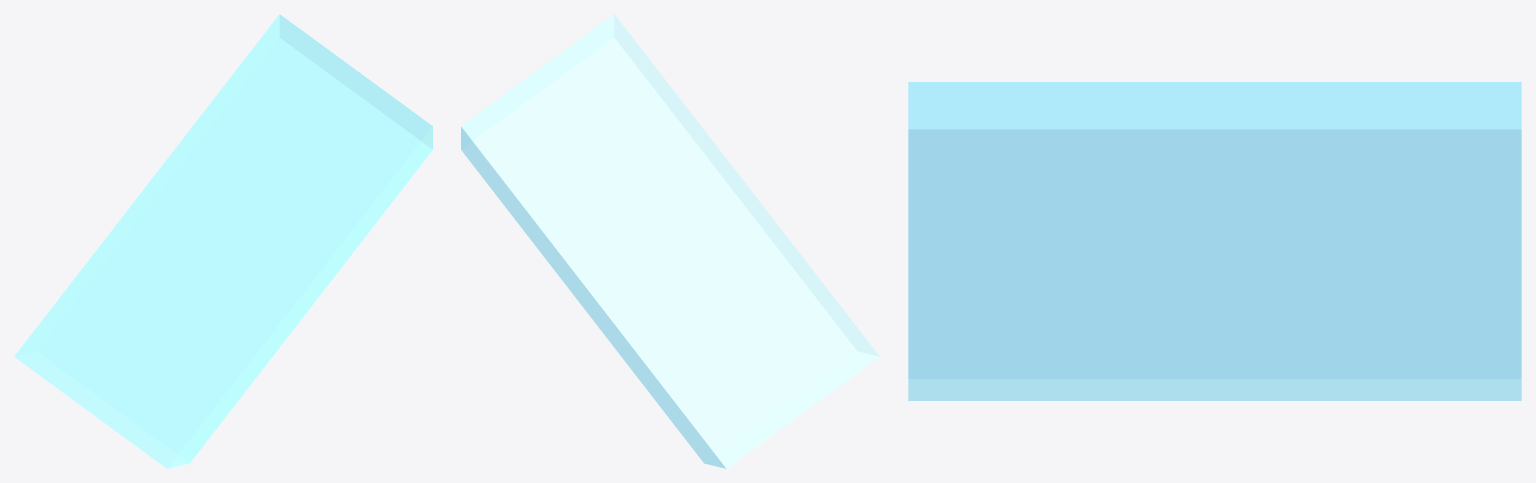
3 renders of one model, left to right at view 1: azimuth 30°, elevation 25°; view 2: azimuth 150°, elevation 25°; view 3: azimuth 270°, elevation 25°, orthographic. The views are drawn at different scales.
Parts seen in each view (by area): view 1: Part_Glass; view 2: Part_Glass; view 3: Part_Glass.
Boxes of the visible parts, bbox=[...] form: Part_Glass: bbox=[14, 14, 432, 468]; Part_Glass: bbox=[461, 14, 879, 468]; Part_Glass: bbox=[908, 82, 1521, 400].
Size of the model in its own units: 1 by 1 by 1.
